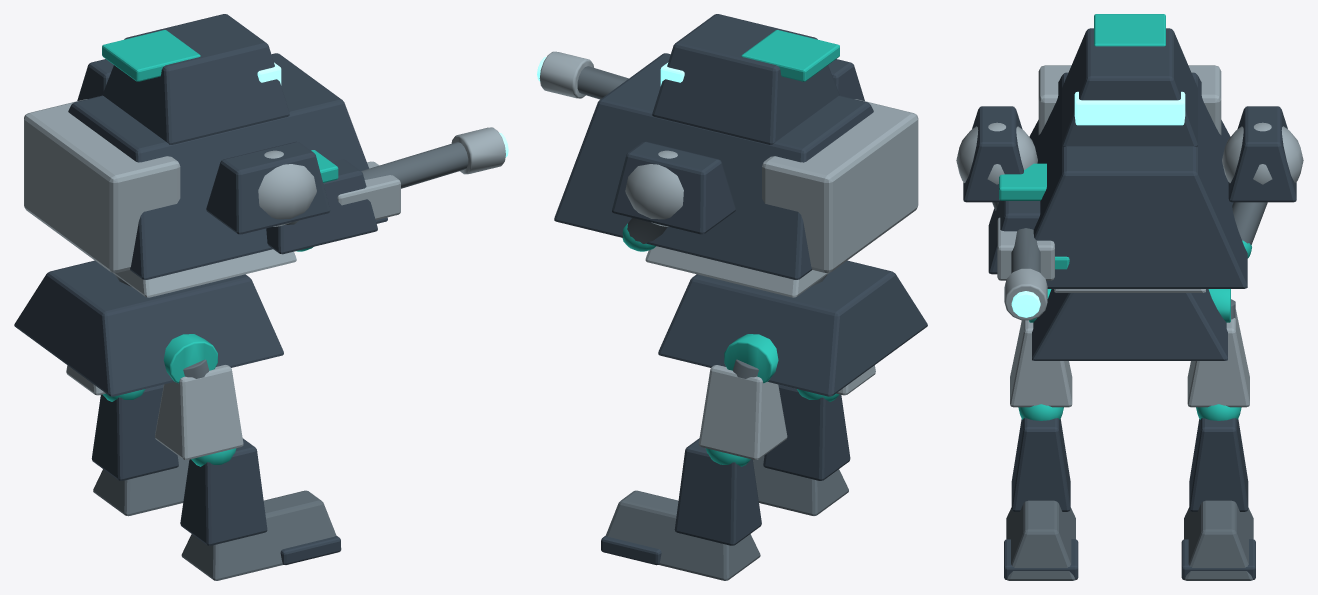
Rendered from SM_Ember.fbx.
3 renders of one model, left to right at view 1: azimuth 30°, elevation 25°; view 2: azimuth 150°, elevation 25°; view 3: azimuth 270°, elevation 25°, orthographic.
Visible parts, largest first — view 1: SM_Ember; view 2: SM_Ember; view 3: SM_Ember.
Boxes of the visible parts, left/top/right/bottom form: SM_Ember: left=14, top=14, right=508, bottom=580; SM_Ember: left=537, top=14, right=927, bottom=580; SM_Ember: left=956, top=14, right=1303, bottom=580.
Bounding box in the file's own units: 40 × 30.85 × 48.
